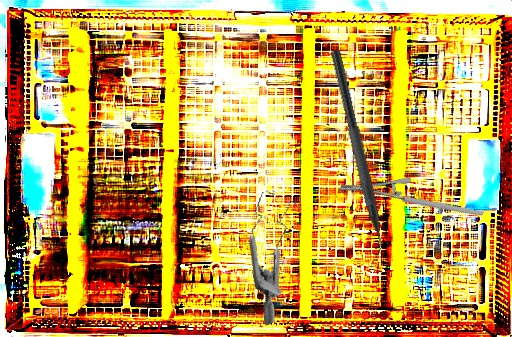Chopper: (315, 48, 394, 270)
Needle Holder: (338, 143, 485, 259)
Speculum: (209, 179, 343, 327)
